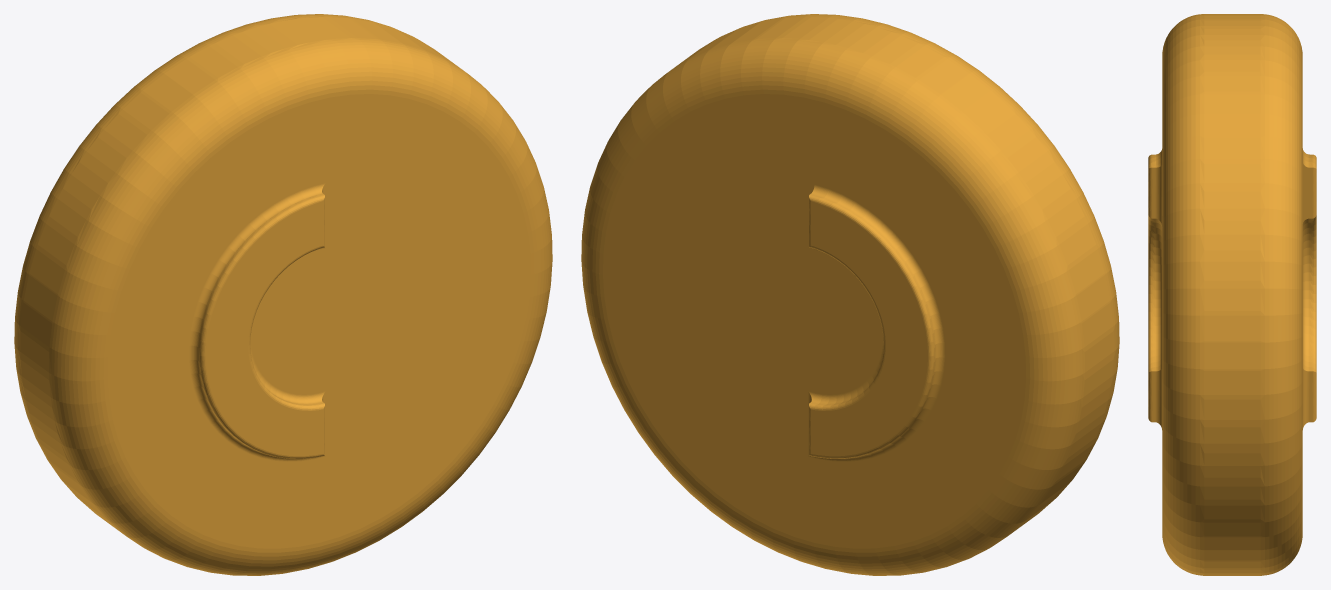
The model's file is CoinSimple.gltf.
3 views of the same model, side by side, from view 1: azimuth 30°, elevation 25°; view 2: azimuth 150°, elevation 25°; view 3: azimuth 270°, elevation 25° (orthographic). The views are drawn at different scales.
Visible parts, largest first — view 1: CoinMarker; view 2: CoinMarker; view 3: CoinMarker.
Part boxes in pixels (left/top/right/bottom): CoinMarker: left=14, top=14, right=552, bottom=575; CoinMarker: left=581, top=14, right=1119, bottom=575; CoinMarker: left=1148, top=14, right=1316, bottom=575.
Size of the model in its own units: 0.1016 by 0.1016 by 0.0305.
